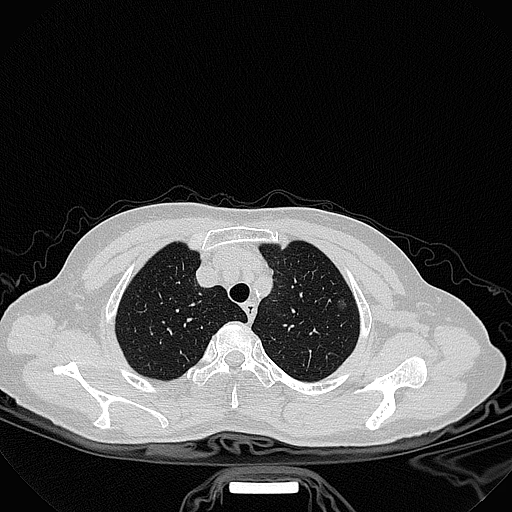nodule: (336, 298, 347, 312)
